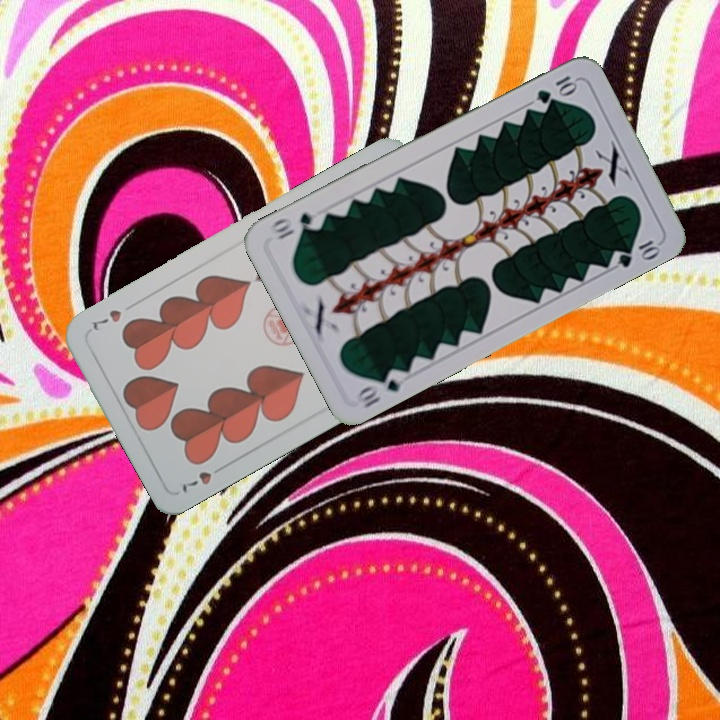G10: (351, 364, 409, 411), (532, 71, 580, 107)
H7: (178, 460, 229, 496)
